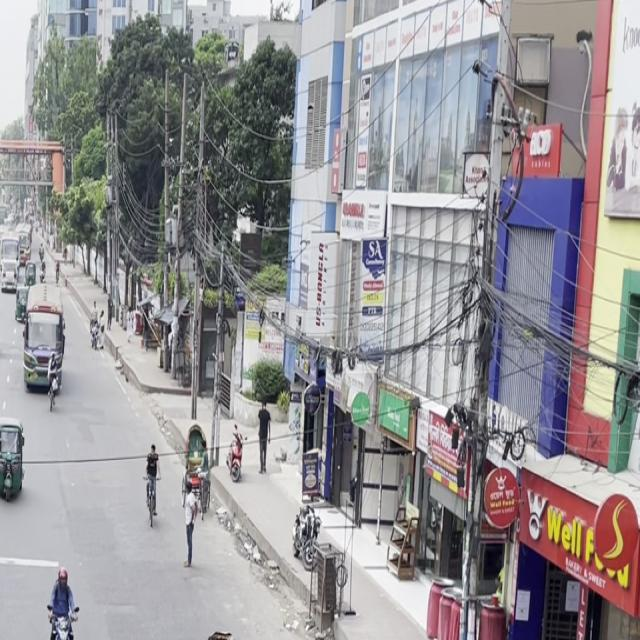bicycle: (140, 442, 166, 534)
bus: (20, 282, 73, 398)
motorbike: (38, 555, 85, 640)
rickshaw: (0, 410, 31, 510), (0, 311, 1, 362)
